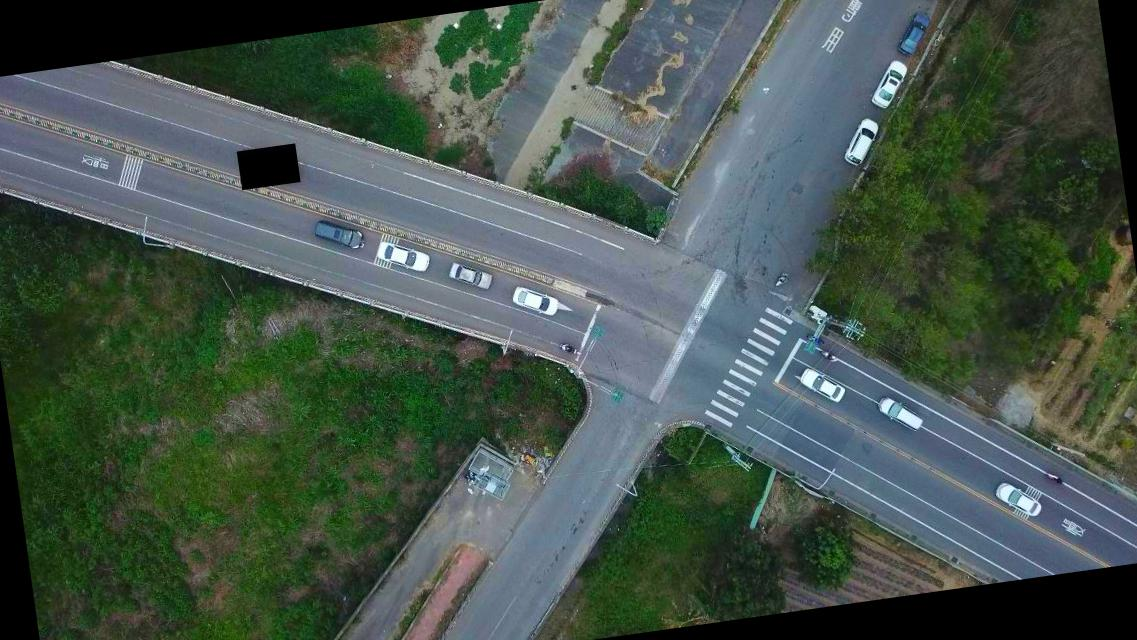vehicle: (375, 236, 434, 279), (839, 116, 886, 168), (866, 59, 912, 112), (310, 215, 365, 257), (994, 477, 1044, 522), (798, 361, 848, 406), (878, 392, 927, 437), (510, 280, 560, 322), (446, 258, 498, 294), (894, 11, 934, 56)
